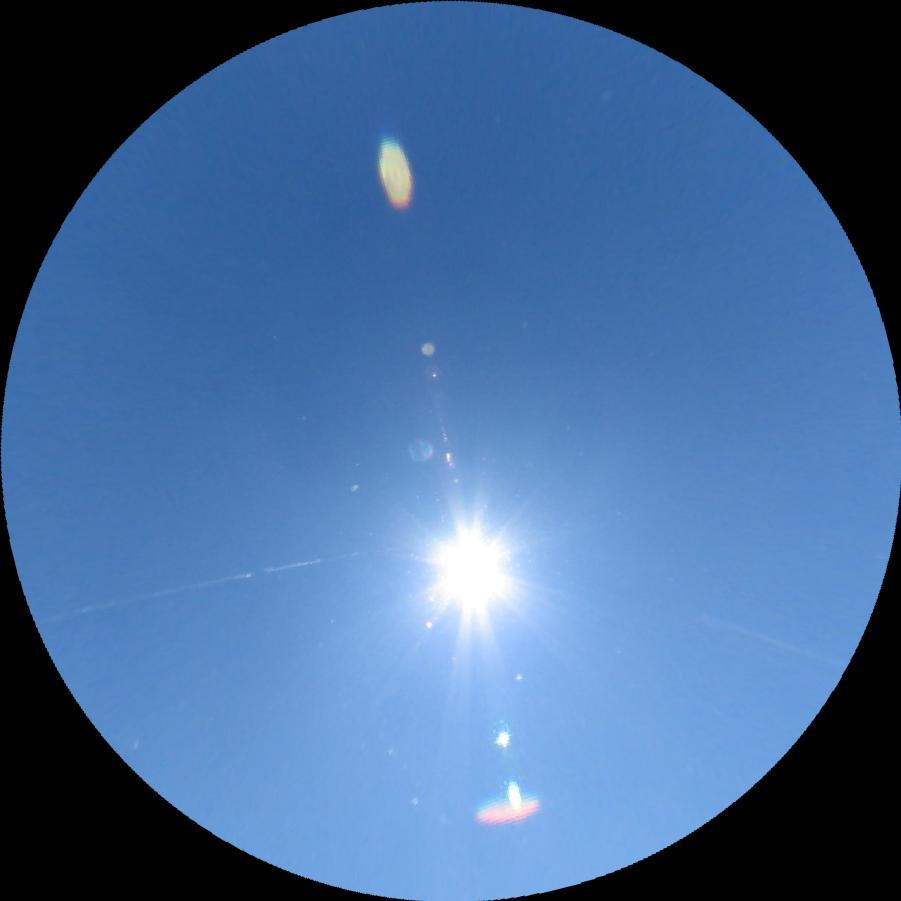parasite: (34, 539, 359, 627), (692, 610, 834, 668)
sun: (407, 511, 528, 632)
